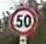limite 50: (8, 6, 38, 35)
